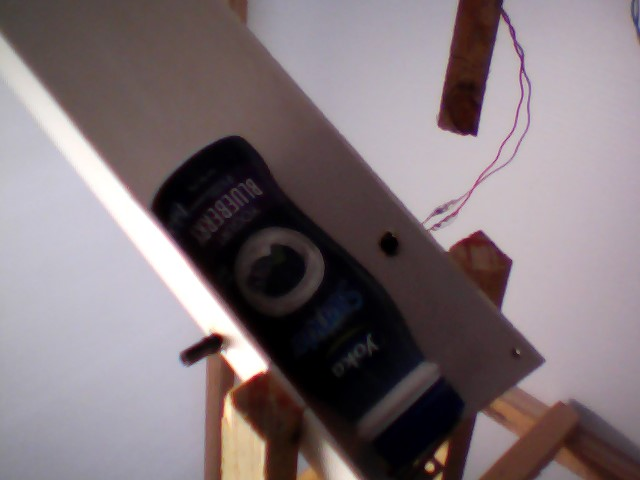plastico: (148, 132, 476, 480)
